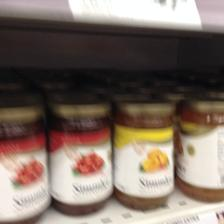Marmelade: (46, 99, 114, 215), (112, 98, 176, 210), (1, 102, 52, 222), (176, 98, 224, 202)
